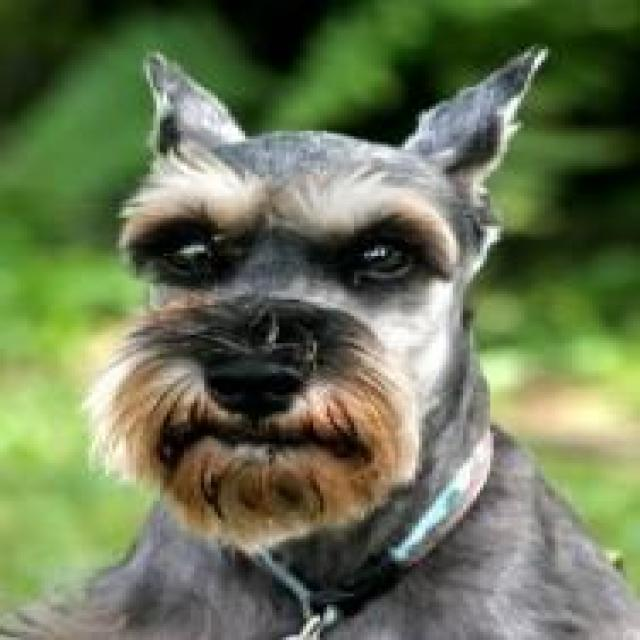standard_schnauzer: (4, 33, 636, 637)
